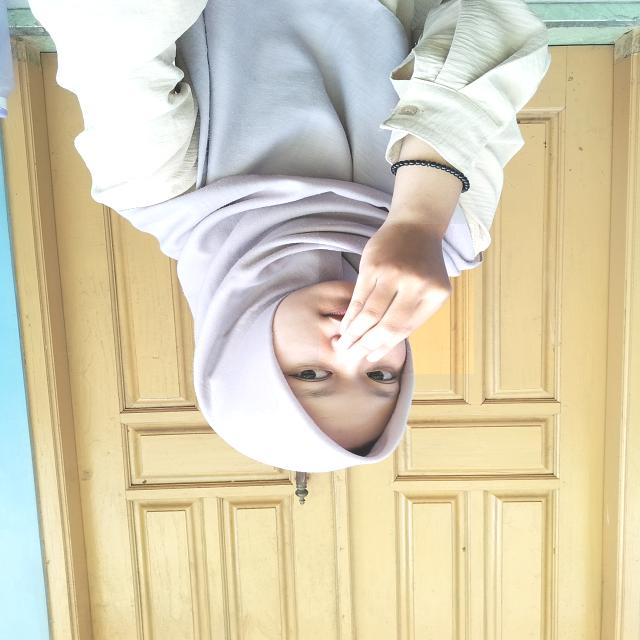bau: (319, 224, 474, 374)
